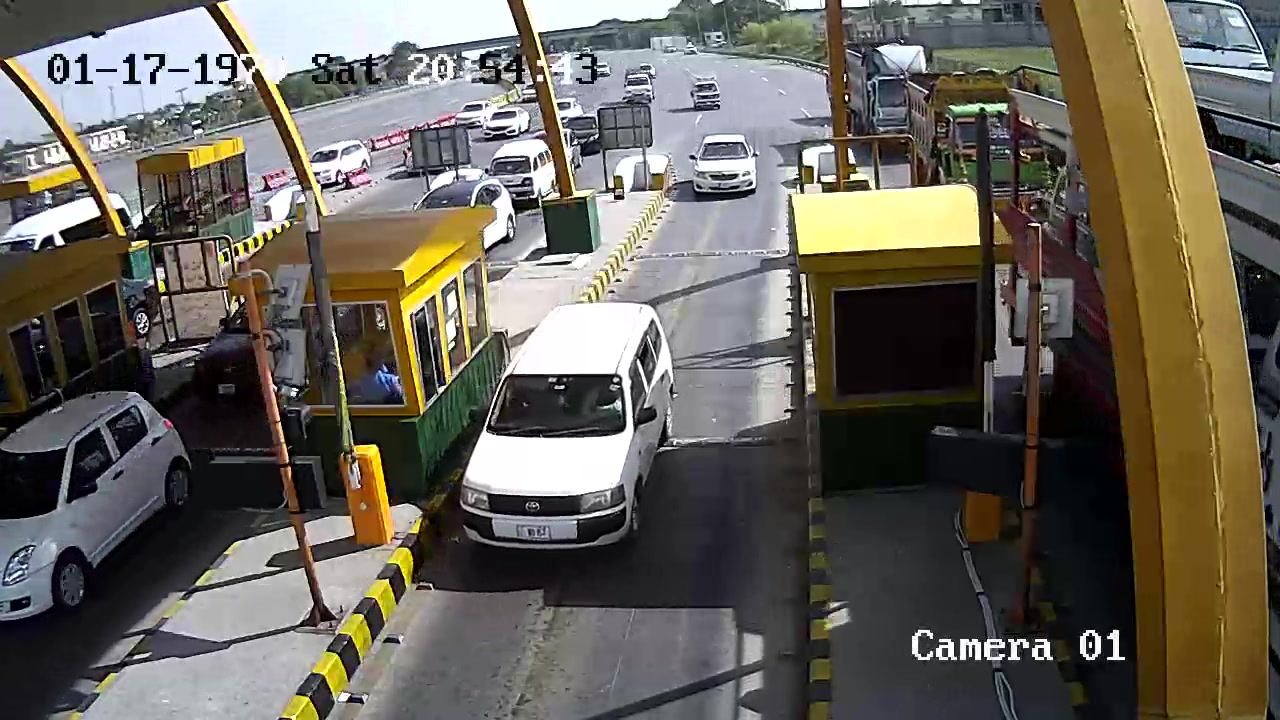F1: (455, 293, 686, 562)
